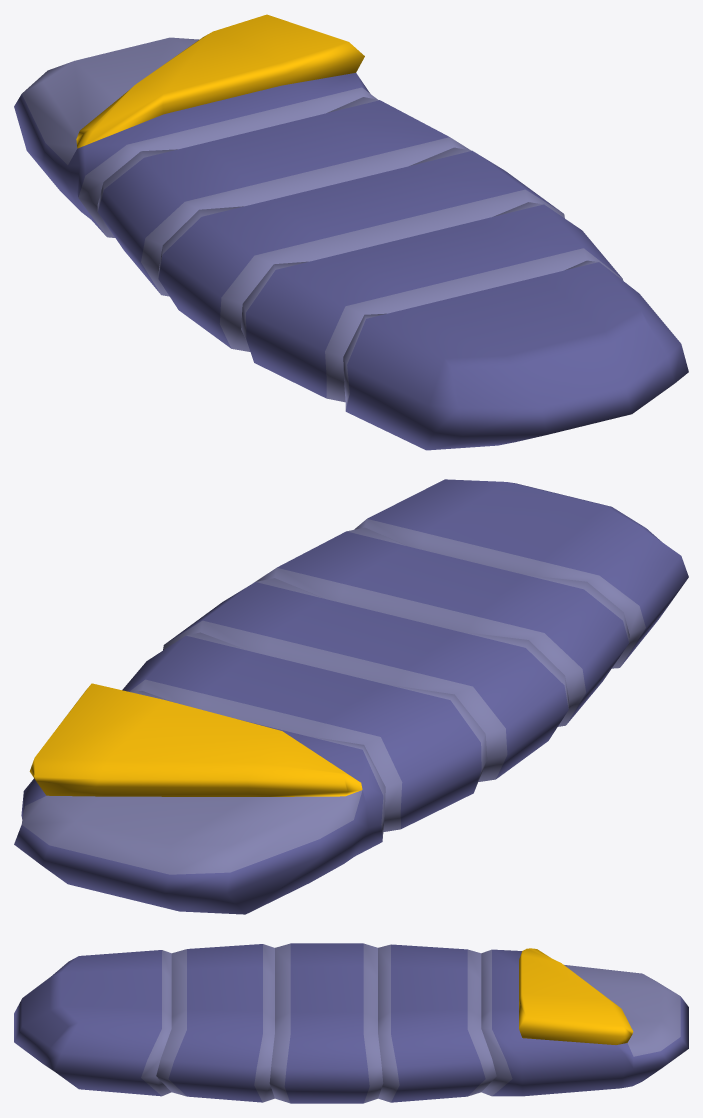
File: sleeping bag.fbx
3 views of the same model, one above another, from view 1: azimuth 30°, elevation 25°; view 2: azimuth 150°, elevation 25°; view 3: azimuth 270°, elevation 25° (orthographic). The views are drawn at different scales.
Visible parts, largest first — view 1: sleeping_bag; view 2: sleeping_bag; view 3: sleeping_bag.
Part boxes in pixels (<box>): sleeping_bag: <box>14,14,688,450</box>; sleeping_bag: <box>14,479,688,914</box>; sleeping_bag: <box>14,943,688,1103</box>.
Bounding box in the file's own units: 113 × 35 × 273.
